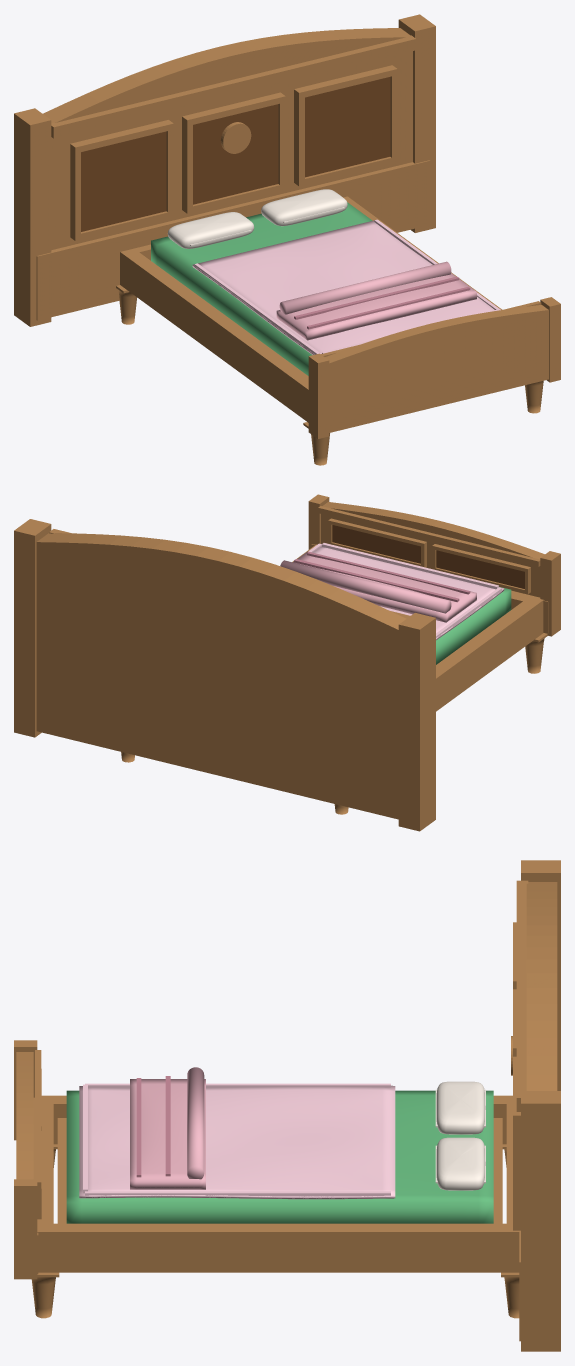
3 views of the same model, one above another, from view 1: azimuth 30°, elevation 25°; view 2: azimuth 150°, elevation 25°; view 3: azimuth 270°, elevation 25° (orthographic). The views are drawn at different scales.
Visible parts, largest first — view 1: decorative_headboard, decorative_footboard, light_pink_blanket, wooden_bed_frame_base, folded_comforter, green_mattress, pillow, tapered_leg; view 2: decorative_headboard, decorative_footboard, folded_comforter, wooden_bed_frame_base, light_pink_blanket, green_mattress, tapered_leg; view 3: wooden_bed_frame_base, light_pink_blanket, decorative_headboard, green_mattress, folded_comforter, decorative_footboard, pillow, tapered_leg.
Part boxes in pixels (<box>): decorative_headboard: <box>14,14,435,326</box>; decorative_footboard: <box>308,297,560,438</box>; light_pink_blanket: <box>192,219,500,354</box>; wooden_bed_frame_base: <box>116,196,502,428</box>; folded_comforter: <box>276,261,476,340</box>; green_mattress: <box>151,202,372,375</box>; pillow: <box>167,189,347,248</box>; tapered_leg: <box>118,290,543,465</box>; decorative_headboard: <box>14,519,435,831</box>; decorative_footboard: <box>308,494,560,636</box>; folded_comforter: <box>280,551,476,622</box>; wooden_bed_frame_base: <box>292,544,547,711</box>; light_pink_blanket: <box>308,543,504,640</box>; green_mattress: <box>436,586,511,664</box>; tapered_leg: <box>121,638,544,814</box>; wooden_bed_frame_base: <box>33,1095,519,1277</box>; light_pink_blanket: <box>79,1083,395,1199</box>; decorative_headboard: <box>511,860,560,1351</box>; green_mattress: <box>66,1090,493,1223</box>; folded_comforter: <box>130,1067,205,1189</box>; decorative_footboard: <box>14,1040,41,1279</box>; pillow: <box>435,1081,485,1190</box>; tapered_leg: <box>31,1149,519,1318</box>.
Bounding box in the file's own units: 10.17 × 5.67 × 9.66.
